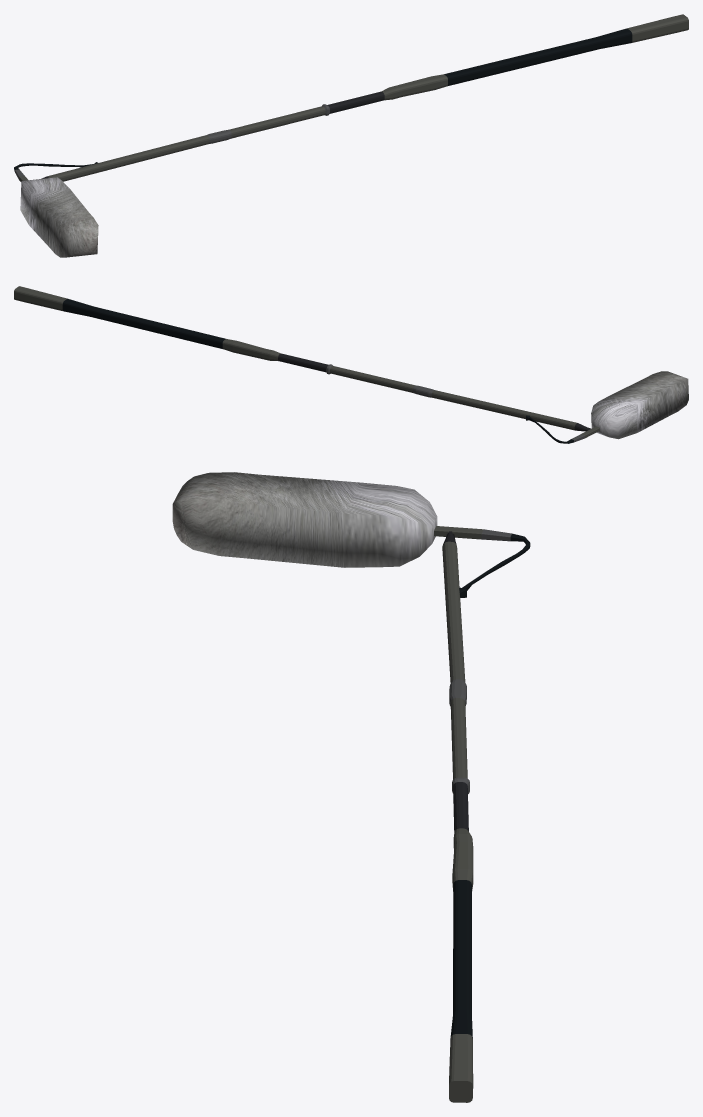
The model's file is WorldItem_BoomMic.fbx.
The picture shows the model from 3 angles, top to bottom: view 1: azimuth 30°, elevation 25°; view 2: azimuth 150°, elevation 25°; view 3: azimuth 270°, elevation 25°; orthographic projection. The views are drawn at different scales.
Parts seen in each view (by area): view 1: Cube; view 2: Cube; view 3: Cube.
Boxes of the visible parts, x1=… form: Cube: x1=14, y1=14, x2=688, y2=257; Cube: x1=14, y1=286, x2=688, y2=443; Cube: x1=172, y1=472, x2=530, y2=1102.
Size of the model in its own units: 0.7417 by 0.0338 by 0.1895.
